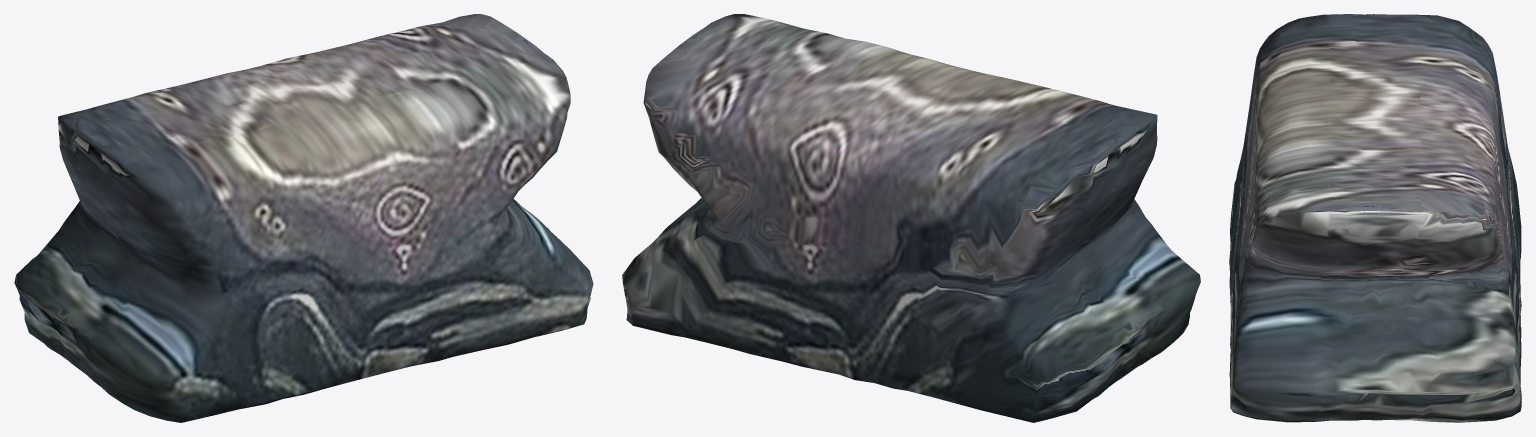
The model's file is altar.glb.
The picture shows the model from 3 angles, left to right: view 1: azimuth 30°, elevation 25°; view 2: azimuth 150°, elevation 25°; view 3: azimuth 270°, elevation 25°; orthographic projection. The views are drawn at different scales.
Parts seen in each view (by area): view 1: altar; view 2: altar; view 3: altar.
Part boxes in pixels (x1,y1,x2,y2): altar: [14, 14, 593, 422]; altar: [622, 14, 1200, 422]; altar: [1229, 14, 1521, 422].
Size of the model in its own units: 2.19 by 1.02 by 1.25.
1 material, 1 textured.
